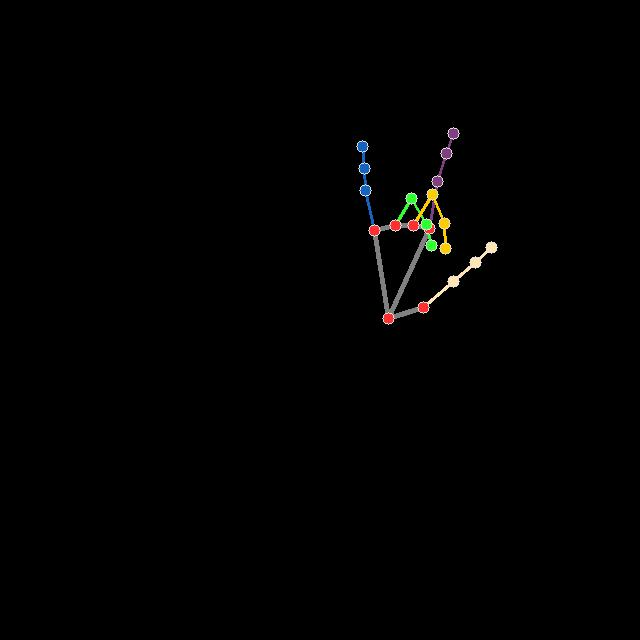spiderman: (358, 127, 498, 323)
